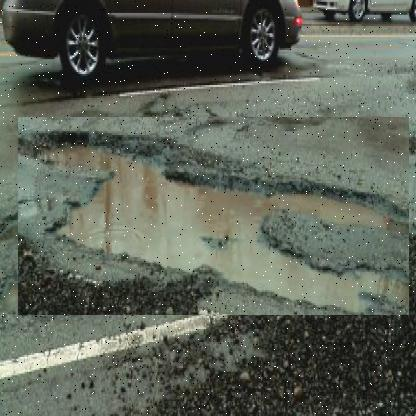pothole_water_m: (18, 117, 410, 316)
